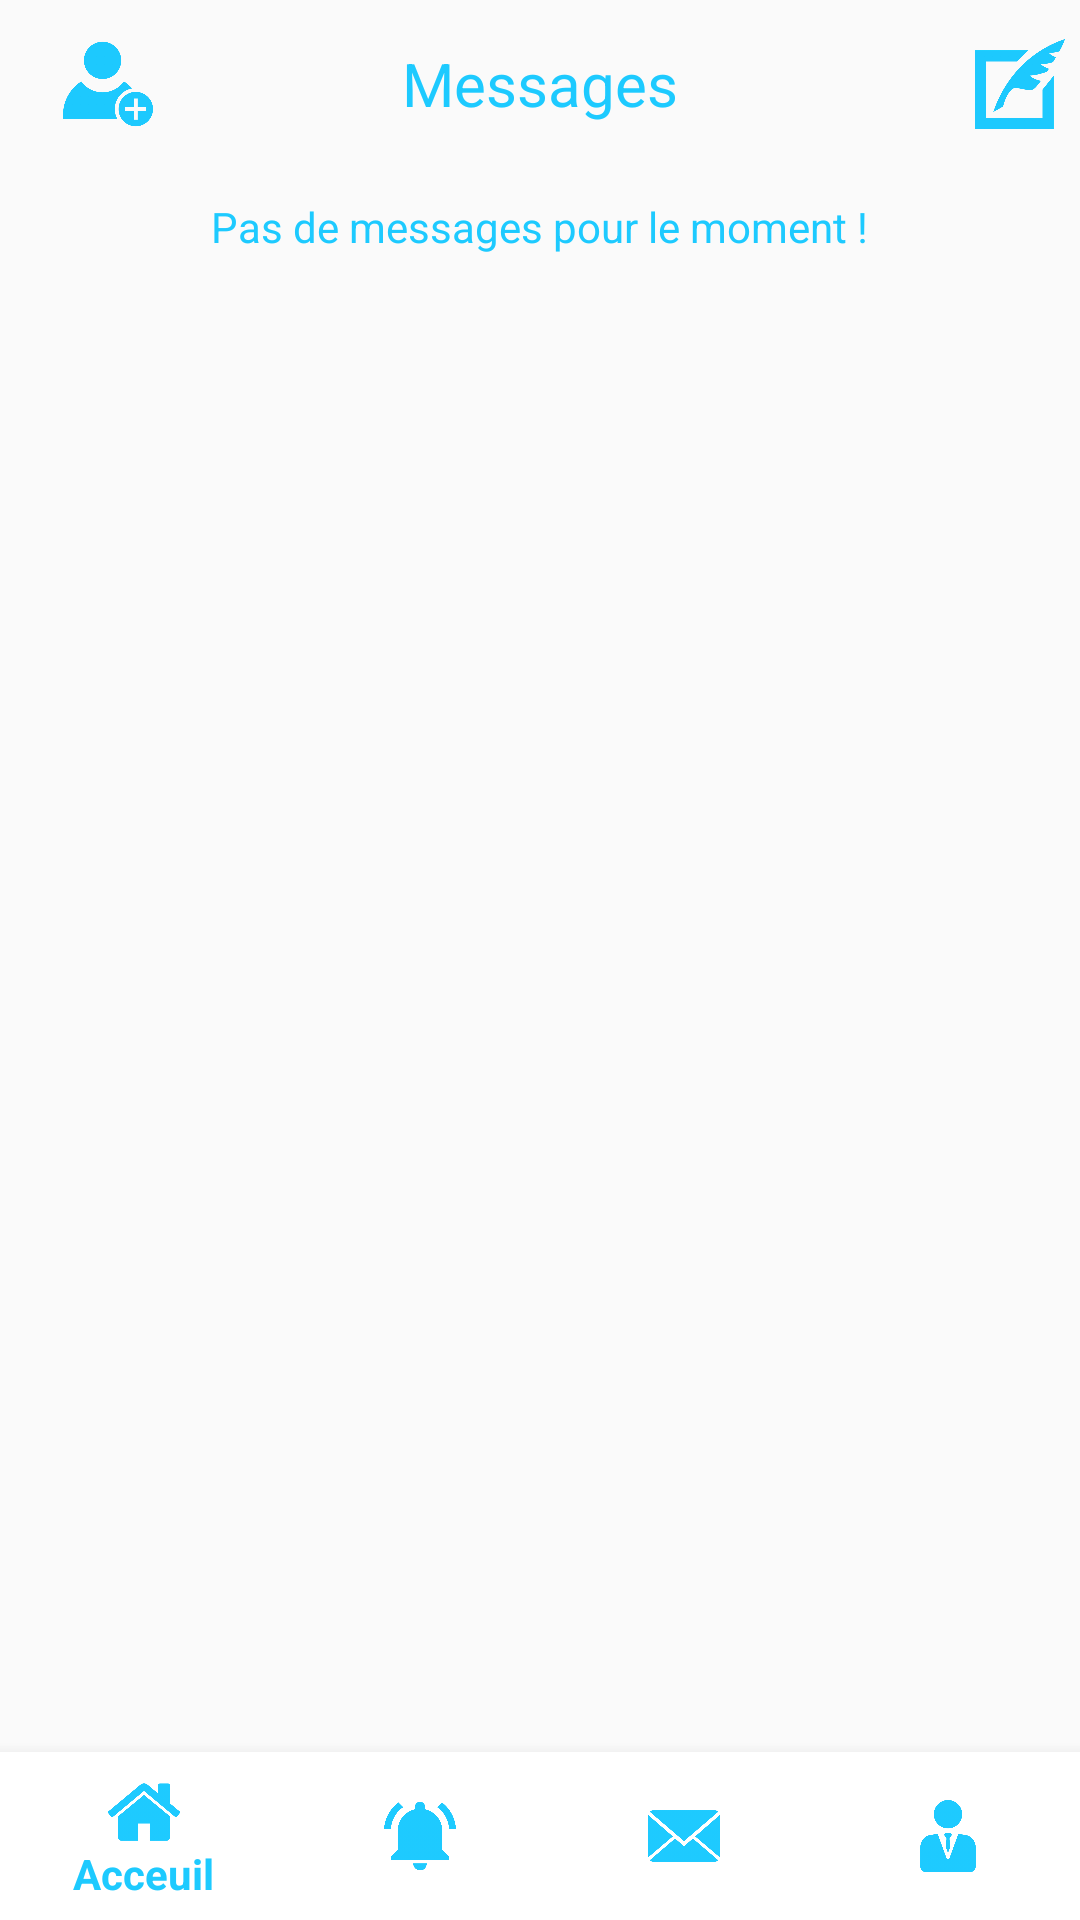

Point at icon controls on the screen. Image size 1080x1920, points as (x,y).
twitter add: (108,84)
twitter write: (1020,84)
